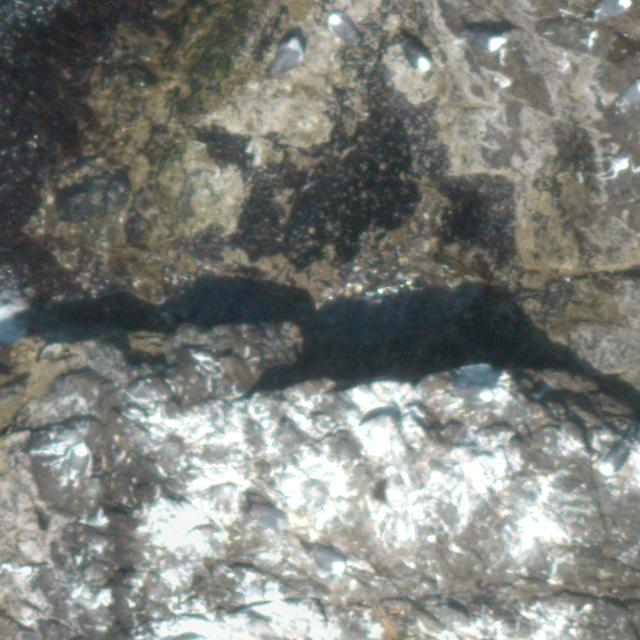umineko: (308, 543, 352, 577), (272, 34, 304, 76), (597, 438, 631, 476), (328, 12, 359, 47), (452, 381, 496, 404), (404, 38, 432, 72), (67, 442, 89, 479), (462, 30, 503, 49), (593, 0, 630, 17), (618, 80, 640, 107)
